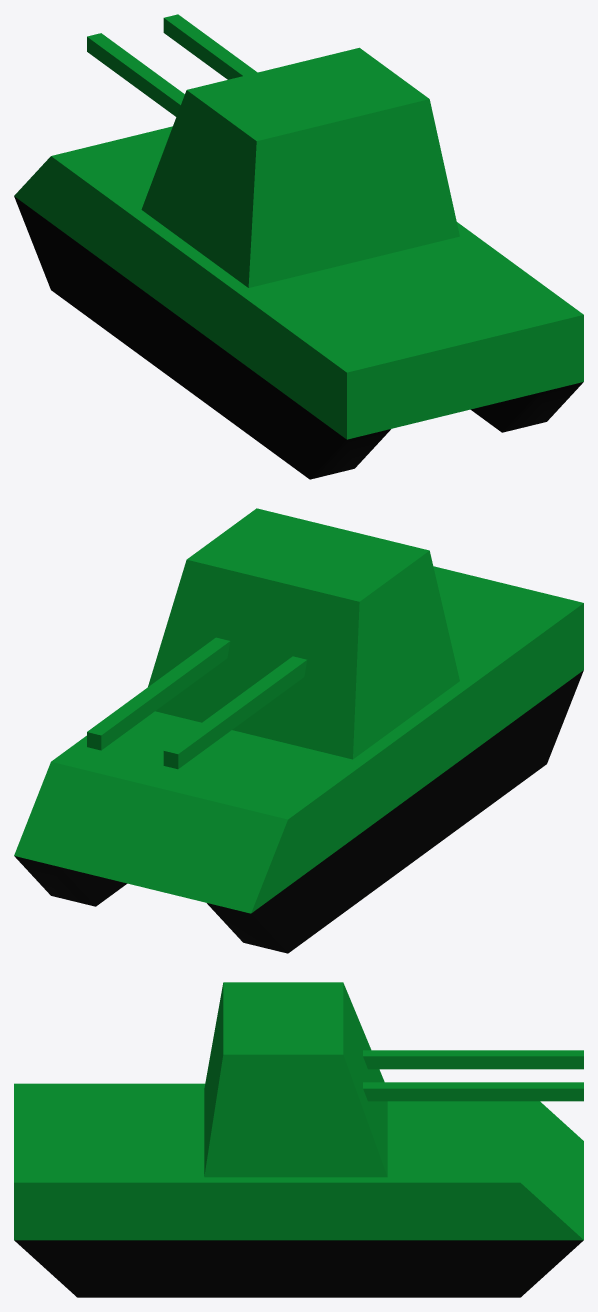
3 views of the same model, one above another, from view 1: azimuth 30°, elevation 25°; view 2: azimuth 150°, elevation 25°; view 3: azimuth 270°, elevation 25° (orthographic). The views are drawn at different scales.
Parts seen in each view (by area): view 1: Body, Turret, Muzzle; view 2: Body, Turret, Muzzle; view 3: Body, Turret, Muzzle.
Part boxes in pixels (x1=…): Body: x1=14, y1=126, x2=583, y2=479; Turret: x1=141, y1=47, x2=459, y2=287; Muzzle: x1=87, y1=14, x2=257, y2=116; Body: x1=14, y1=566, x2=583, y2=953; Turret: x1=148, y1=508, x2=459, y2=759; Muzzle: x1=87, y1=637, x2=306, y2=769; Body: x1=14, y1=1083, x2=583, y2=1297; Turret: x1=204, y1=982, x2=387, y2=1177; Muzzle: x1=363, y1=1050, x2=583, y2=1101.
Bounding box in the file's own units: 3.7 × 4 × 9.
